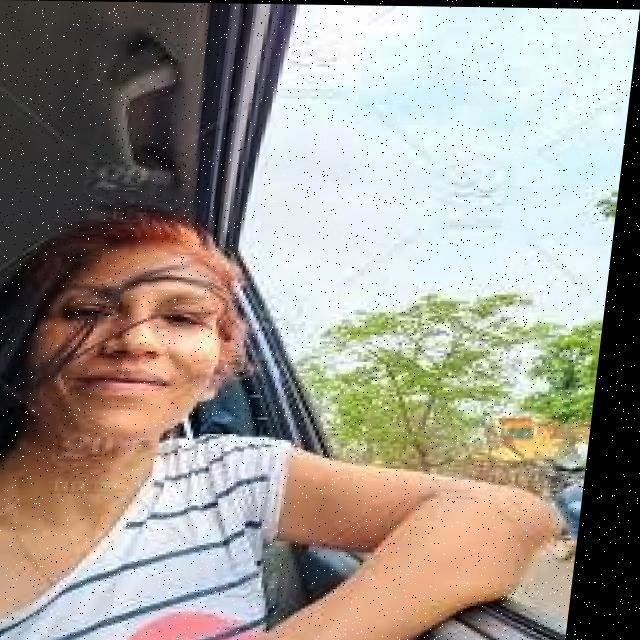noSeatbelt: (0, 368, 381, 640)
